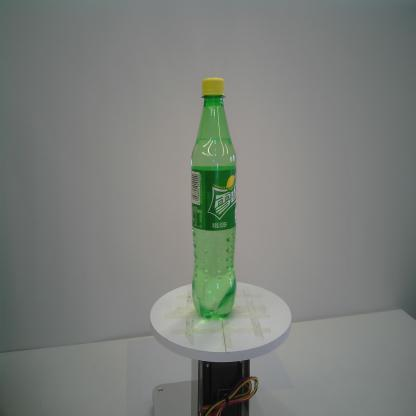Drink: (191, 77, 237, 320)
